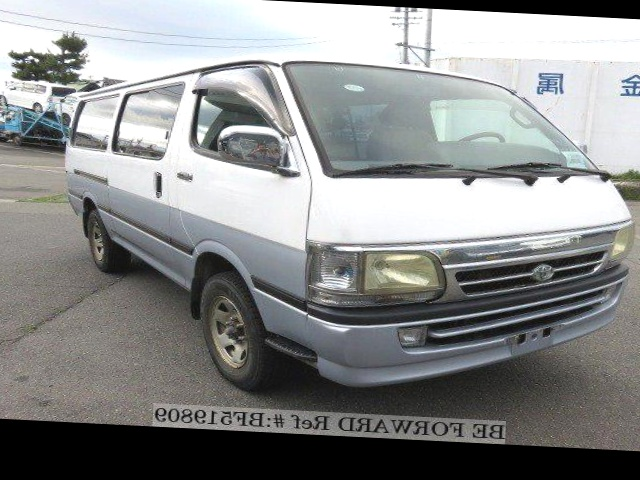van: (50, 40, 640, 393)
